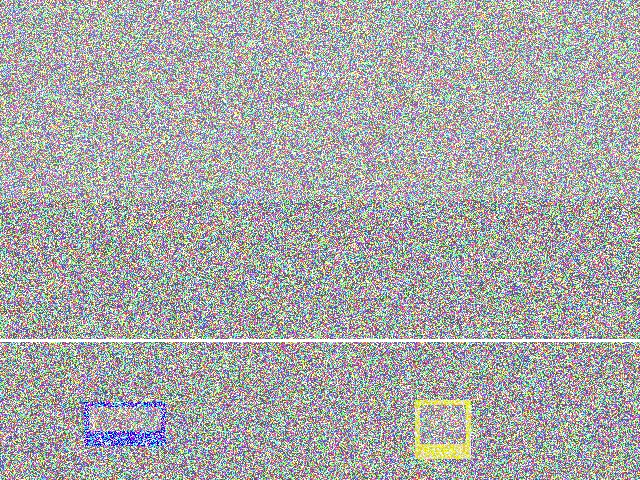bus: (408, 173, 506, 276), (95, 328, 263, 378)
truck: (282, 140, 404, 272)
